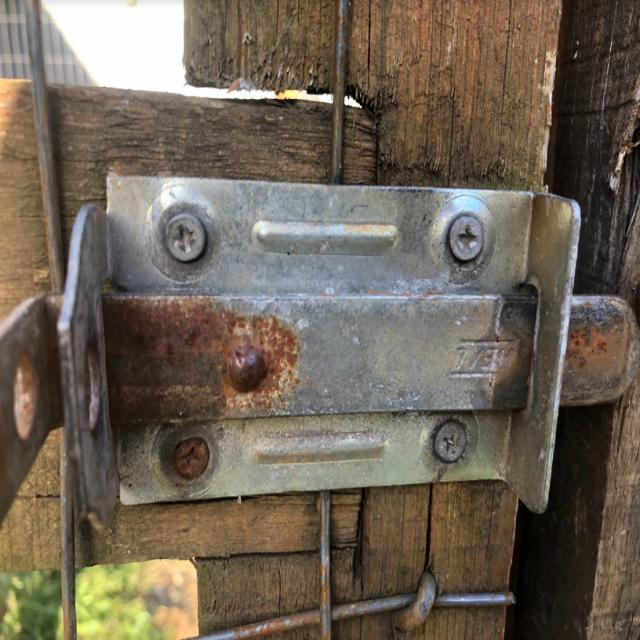Corrosion: (101, 294, 305, 425), (233, 560, 425, 640), (565, 310, 631, 375), (3, 355, 38, 442), (173, 436, 209, 482), (335, 0, 347, 106)
